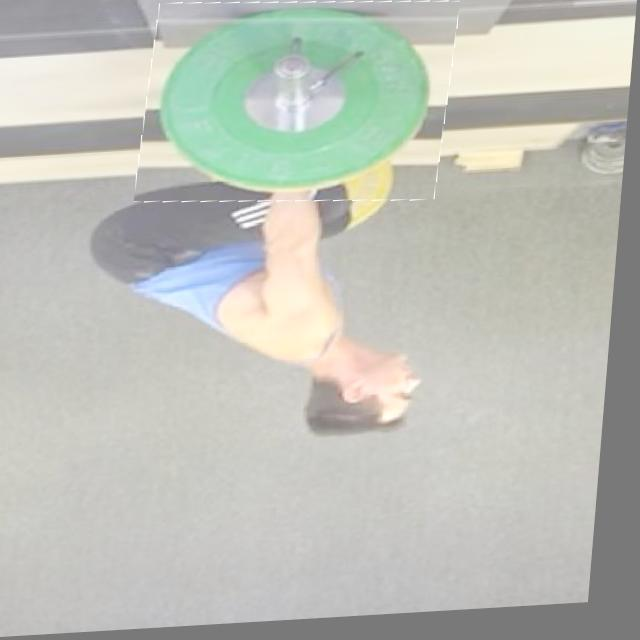barbell: (140, 1, 459, 216)
